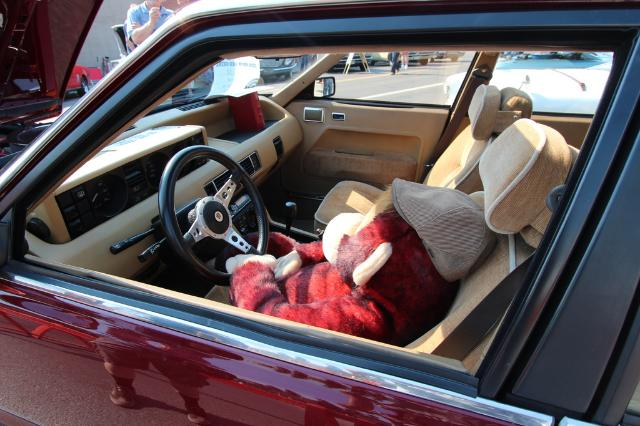Seatbelt: (429, 246, 537, 360), (422, 63, 492, 183)
